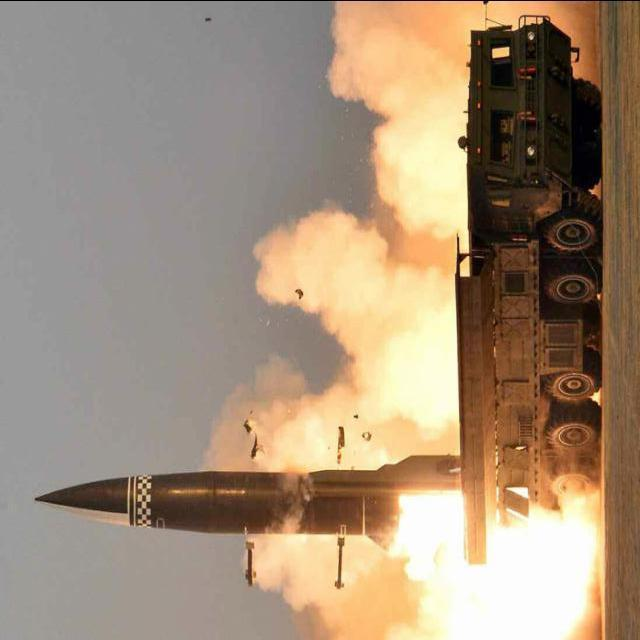Missile: (29, 453, 419, 556)
